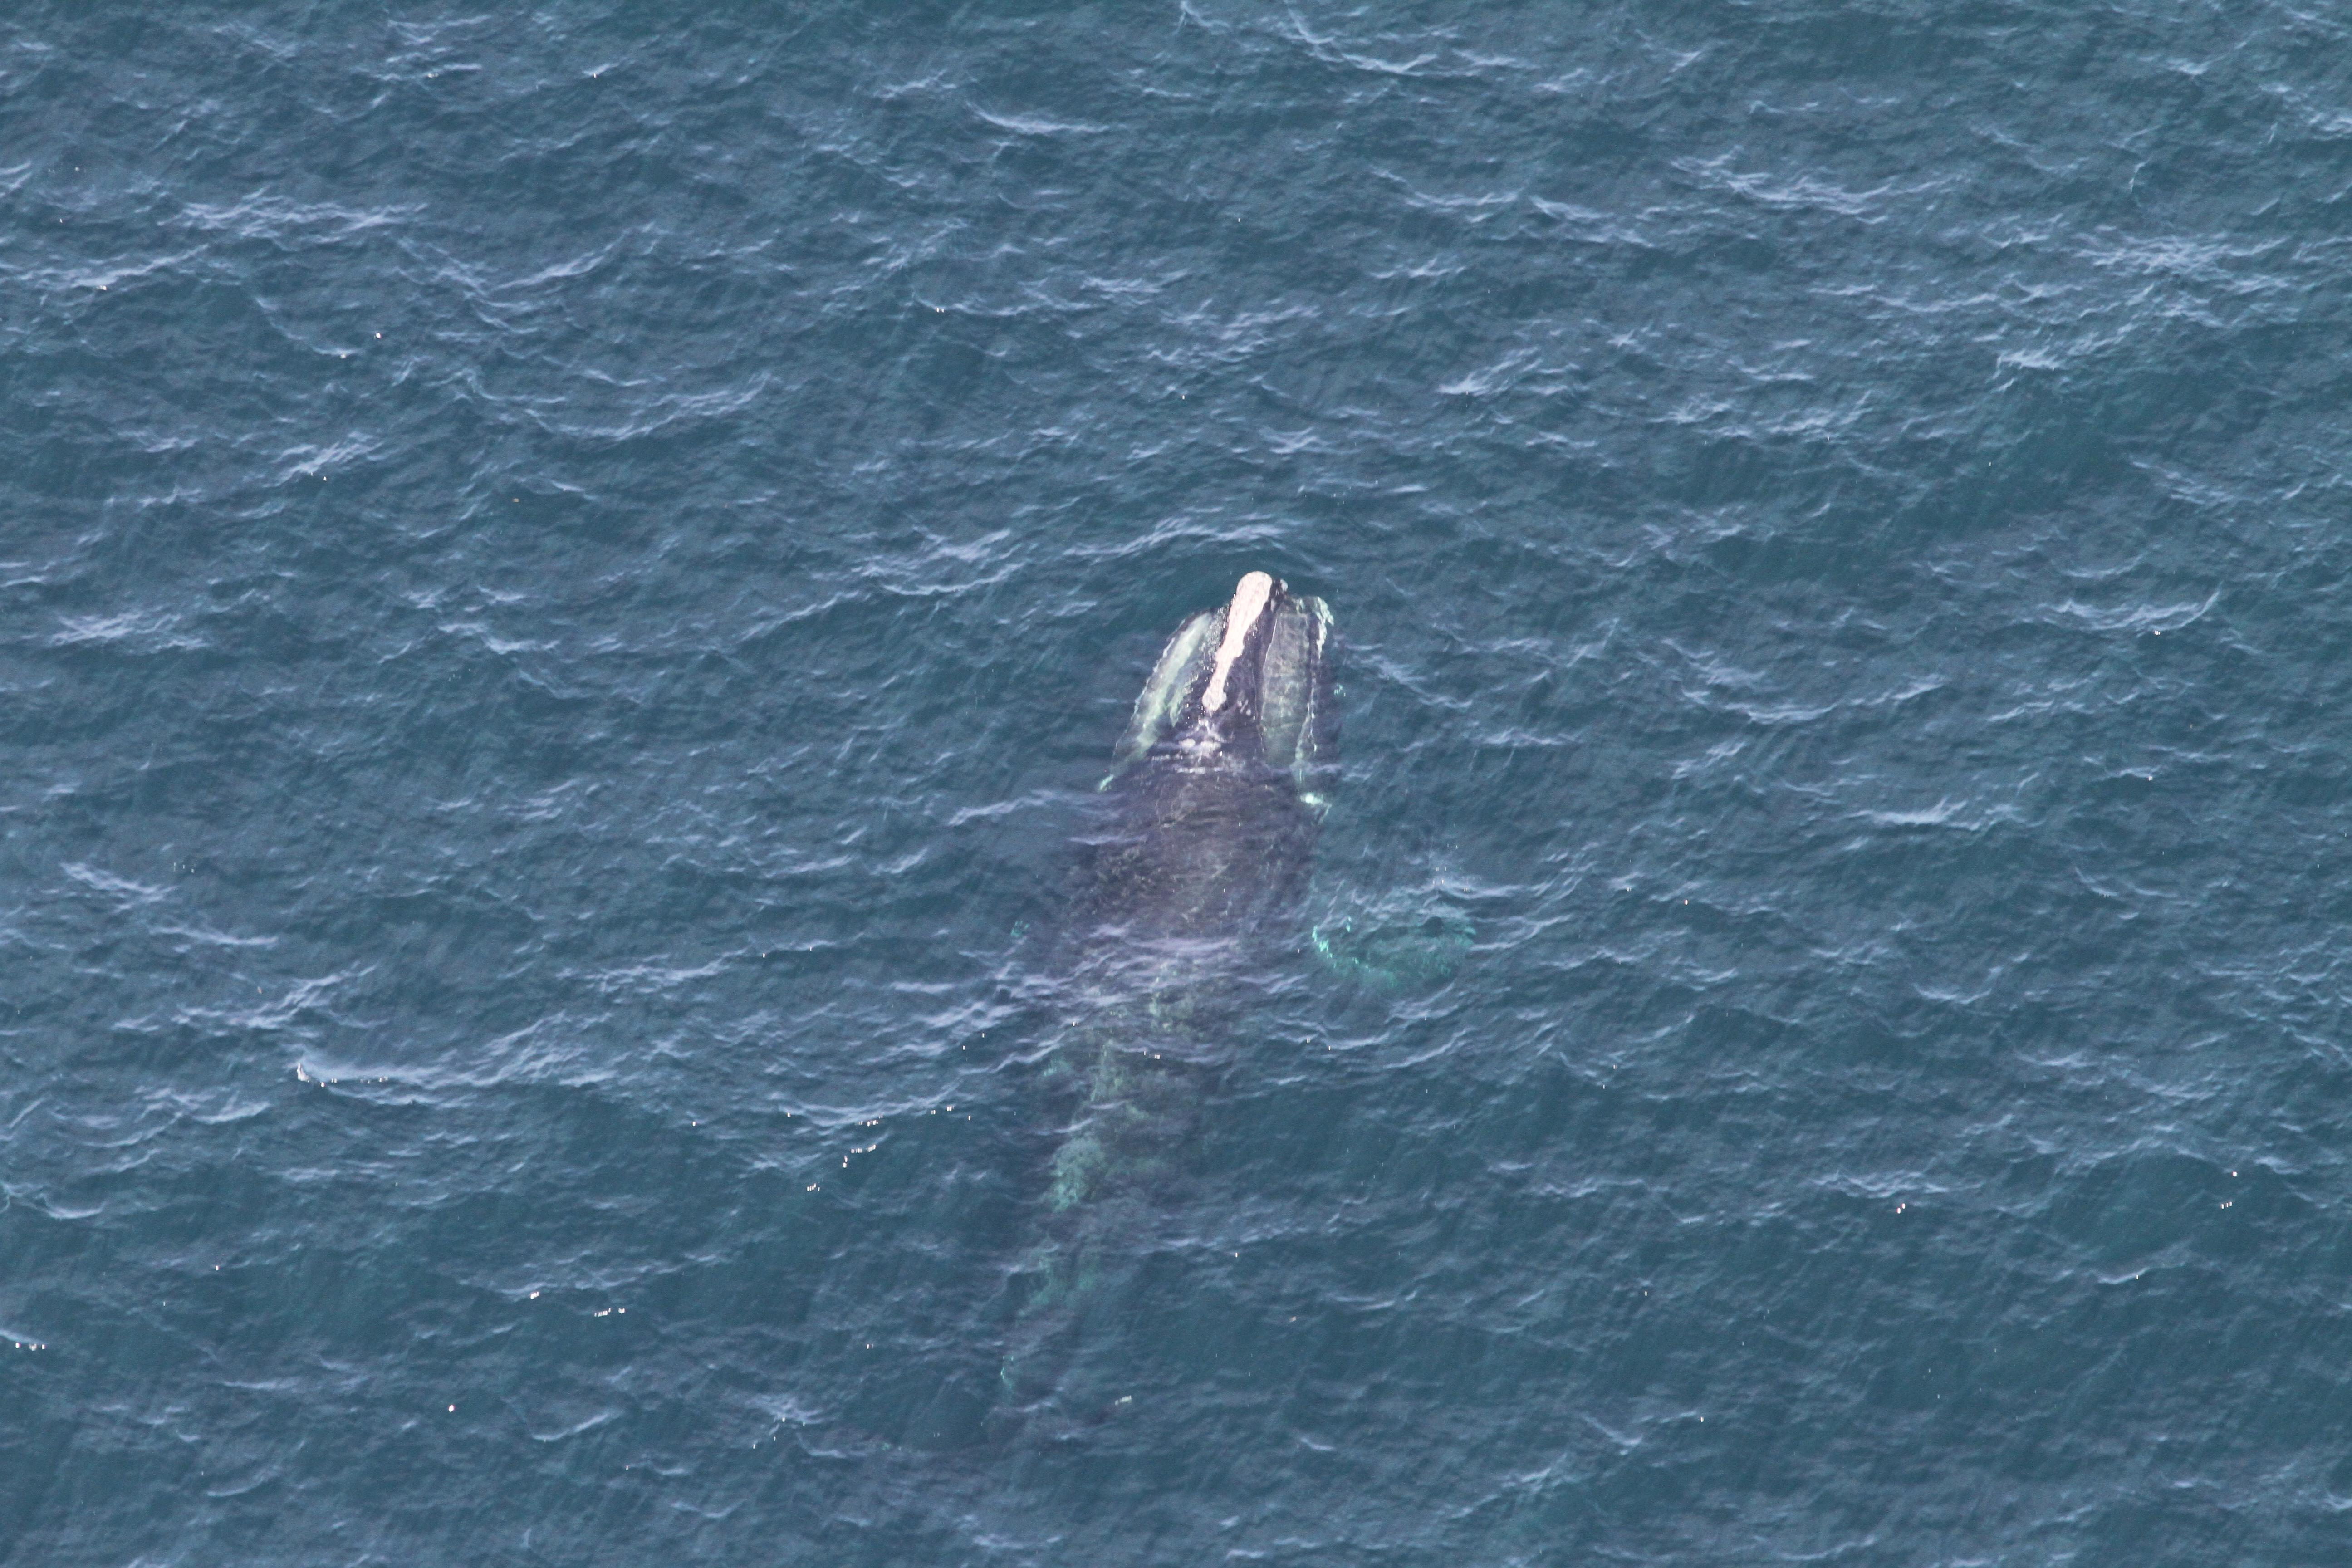whale: (964, 576, 1339, 1414)
